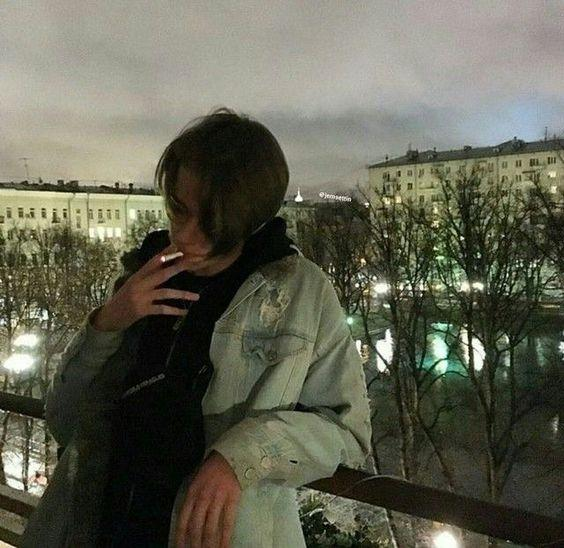cigarette: (161, 251, 185, 263)
